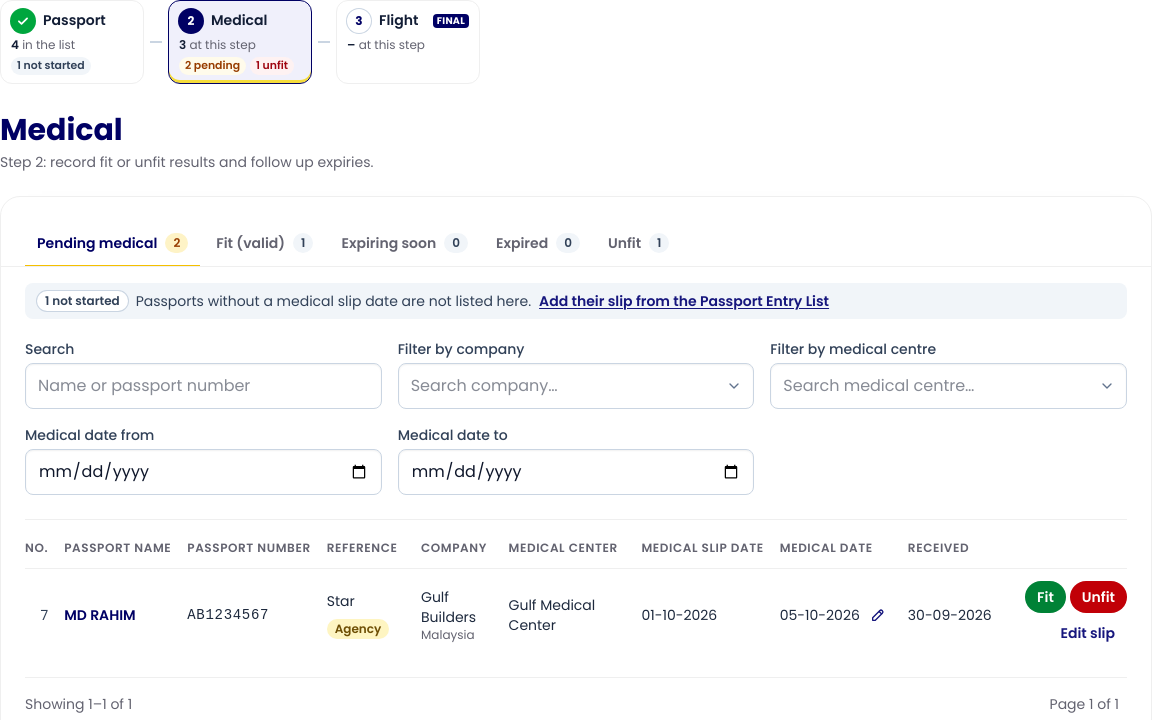
Test: Medical page › Fit: issue and expiry dates › requires both dates and an expiry after the issue date
Click the button "Fit" at [1046, 597], box [1025,581,1066,613]
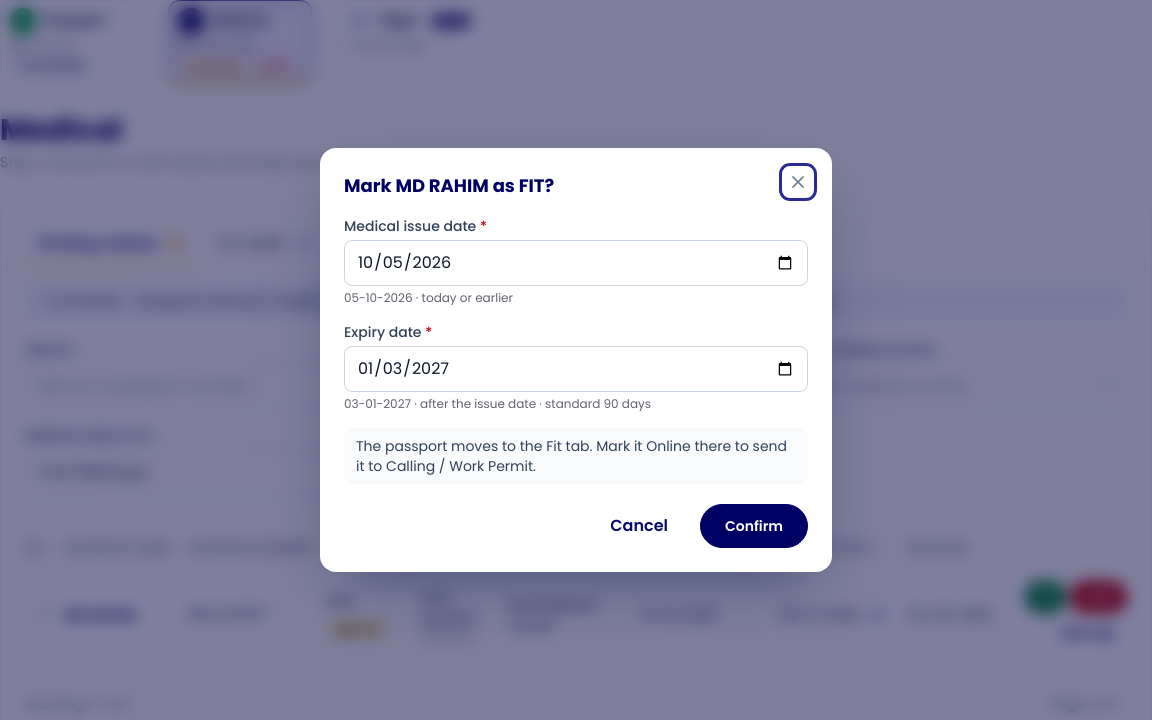
Clear the date field labelled "Medical issue date *" at [576, 263], box [344,240,808,286]
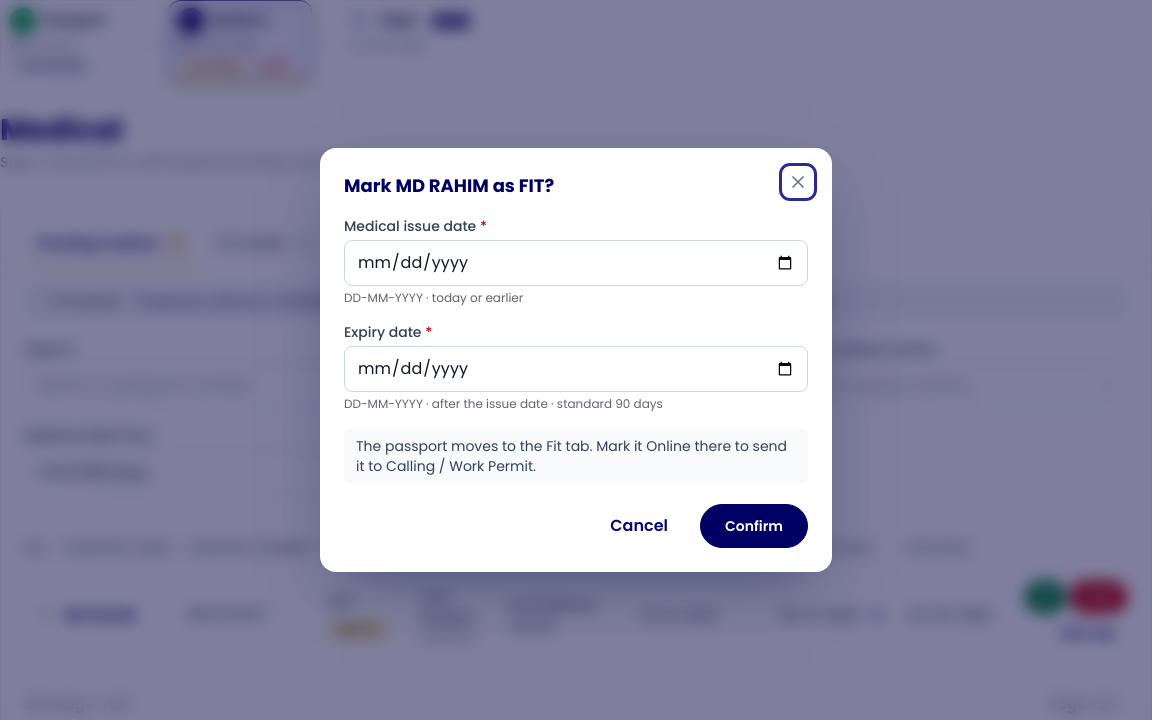
Submit the form, box [344,216,808,548]
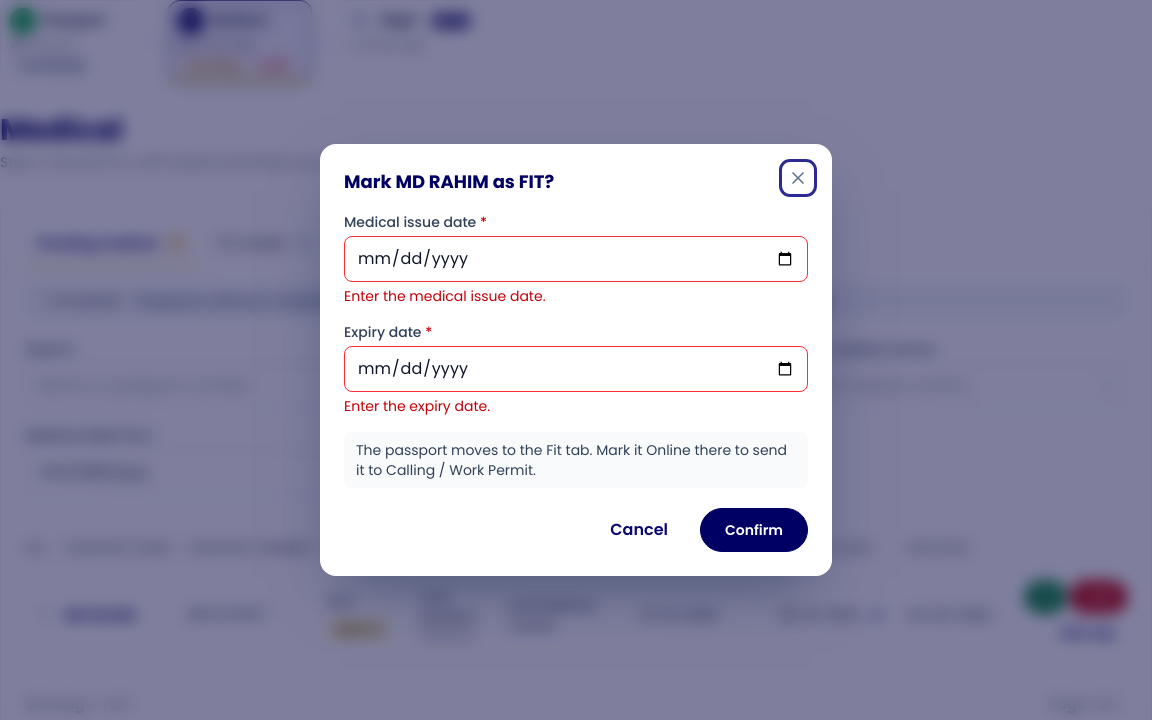
Expected: the form shows "Enter the medical issue date.", [344,286,546,306]
Expected: the form shows "Enter the expiry date.", [344,396,490,416]
Type "2026-10-05" into the date field labelled "Medical issue date *" at [576, 259], box [344,236,808,282]
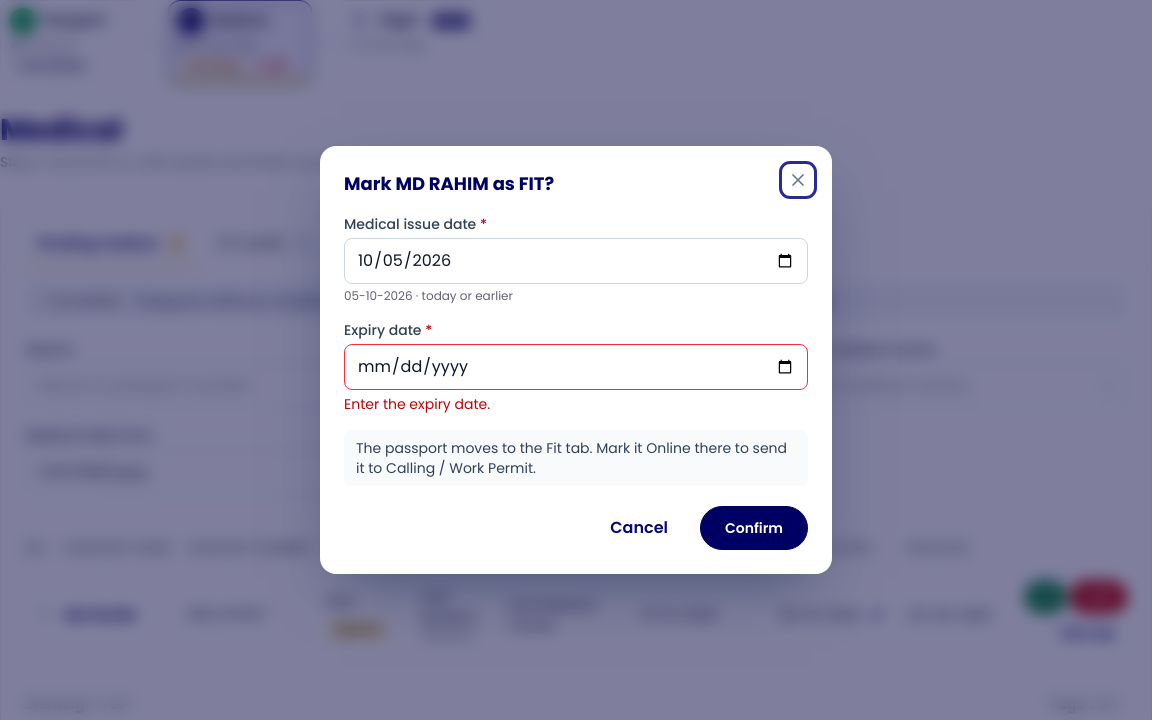
Type "2026-10-05" into the date field labelled "Expiry date *" at [576, 367], box [344,344,808,390]
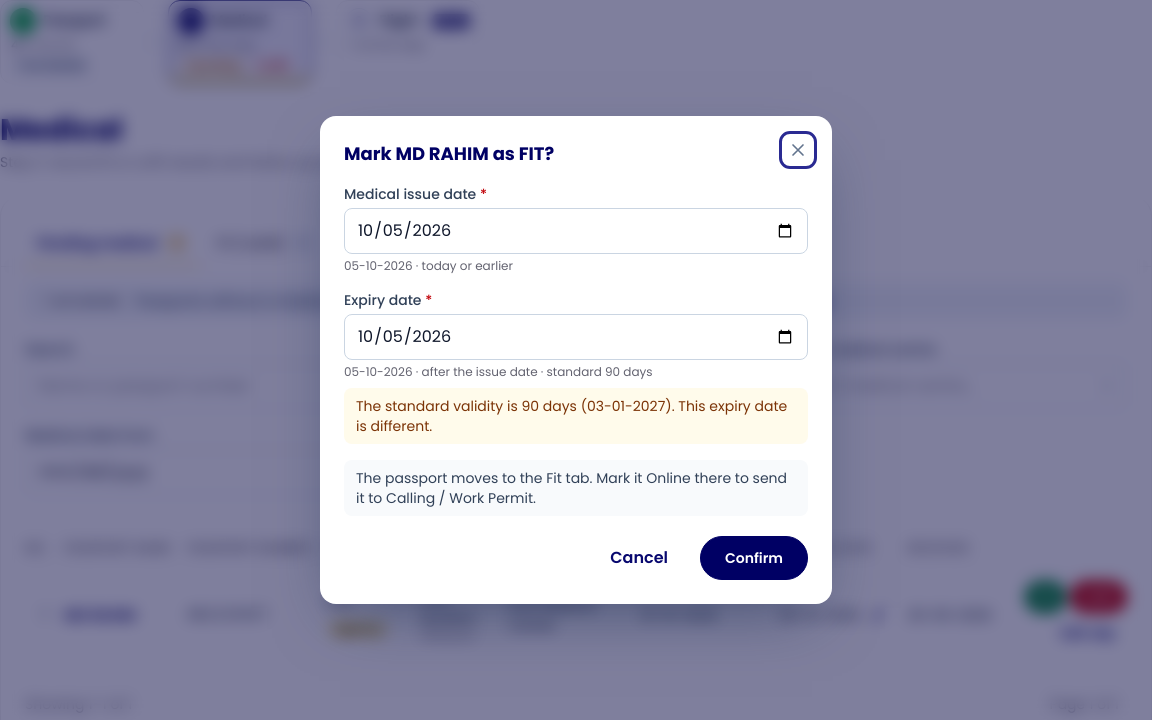
Submit the form, box [344,184,808,580]
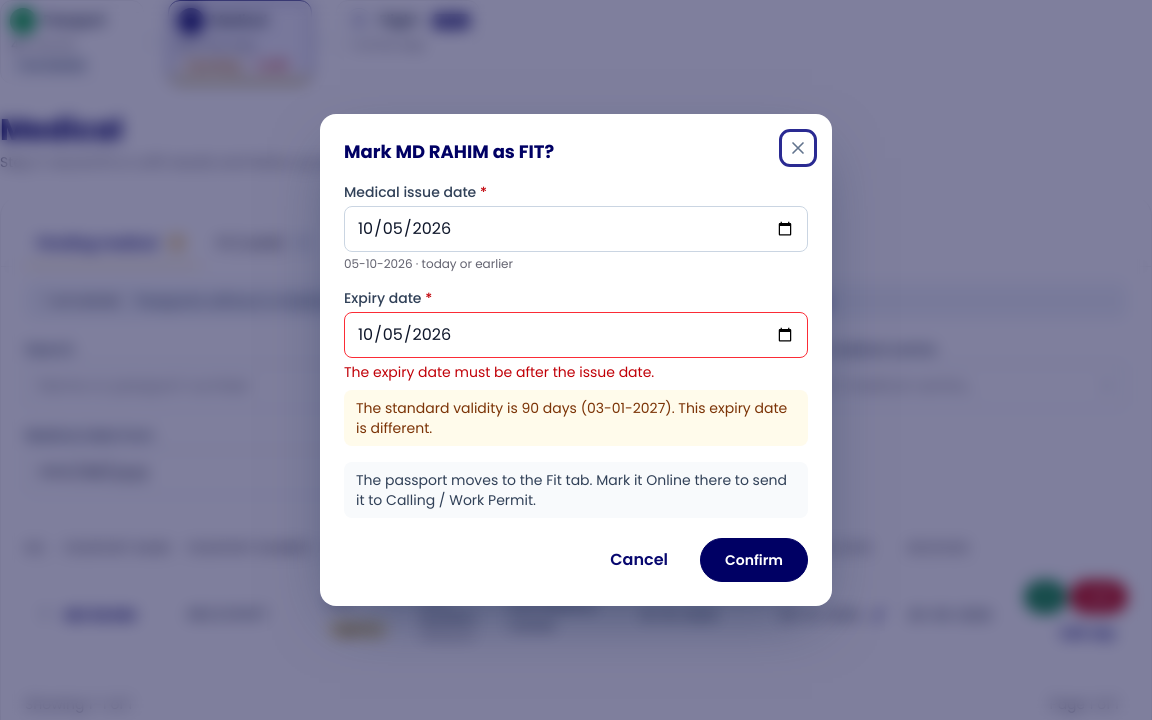
Expected: the form shows "The expiry date must be after the issue date.", [344,362,654,382]
